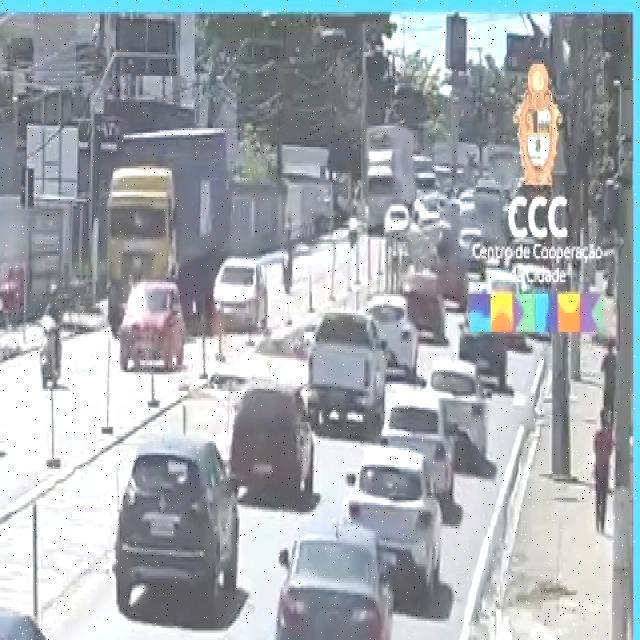biker: (35, 276, 65, 394)
car: (111, 436, 240, 609), (346, 440, 448, 589), (273, 516, 394, 640), (229, 376, 316, 507), (306, 304, 385, 434), (119, 278, 187, 374), (213, 253, 268, 332), (0, 599, 74, 640), (177, 633, 336, 640)
truck: (107, 126, 229, 332)
